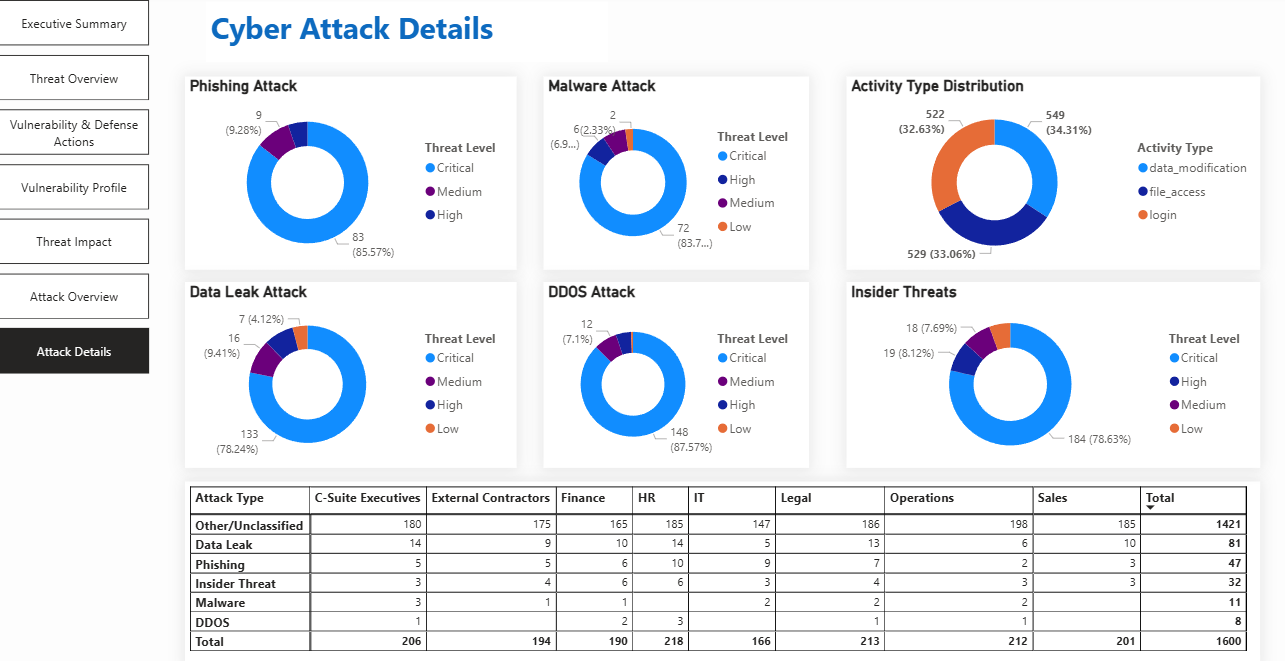

Layout of this report page (visuals, bound fields, positions):
{"tool":"powerbi","page":{"name":"Attack Details","canvas":[1400,720],"ordinal":6},"visuals":[{"type":"pivotTable","fields":{"Rows":["simulated_attacks_df.Attack Type"],"Columns":["simulated_attacks_df.Department Affected"],"Values":["CountNonNull(simulated_attacks_df.Issue ID)"]},"box":[200.8,519.8,1161,200.8],"z":0},{"type":"donutChart","title":"Phishing Attack","fields":{"Y":["CountNonNull(simulated_attacks_df.Issue ID)"],"Category":["simulated_attacks_df.Threat Level"]},"box":[200.8,82.6,357.8,208.9],"z":1000},{"type":"donutChart","title":"Activity Type Distribution","fields":{"Category":["simulated_attacks_df.Activity Type"],"Y":["CountNonNull(simulated_attacks_df.Issue ID)"]},"box":[914.9,82.6,446.9,208.9],"z":2000},{"type":"donutChart","title":"Malware Attack","fields":{"Y":["CountNonNull(simulated_attacks_df.Issue ID)"],"Category":["simulated_attacks_df.Threat Level"]},"box":[587.8,82.6,286.6,208.9],"z":3000},{"type":"donutChart","title":"Data Leak Attack","fields":{"Y":["CountNonNull(simulated_attacks_df.Issue ID)"],"Category":["simulated_attacks_df.Threat Level"]},"box":[200.8,304.4,357.8,200.8],"z":4000},{"type":"donutChart","title":"DDOS Attack","fields":{"Y":["CountNonNull(simulated_attacks_df.Issue ID)"],"Category":["simulated_attacks_df.Threat Level"]},"box":[587.8,304.4,286.6,200.8],"z":5000},{"type":"donutChart","title":"Insider Threats","fields":{"Y":["CountNonNull(simulated_attacks_df.Issue ID)"],"Category":["simulated_attacks_df.Threat Level"]},"box":[914.9,304.4,446.9,200.8],"z":6000},{"type":"textbox","box":[224,1.7,434,65.2],"z":7000},{"type":"pageNavigator","box":[0,0,162.4,405.9],"z":8000}]}

Visuals, with their boxes on the page's 1400x720 design canvas (x1, y1, x2, y2). These are canvas units, not pixel positions in the 1285x661 screenshot, which may show the page scaled, cropped or inside an application window:
pivotTable - simulated_attacks_df.Attack Type x simulated_attacks_df.Department Affected: Rect(201, 520, 1362, 721)
"Phishing Attack" donutChart: Rect(201, 83, 559, 292)
"Activity Type Distribution" donutChart: Rect(915, 83, 1362, 292)
"Malware Attack" donutChart: Rect(588, 83, 874, 292)
"Data Leak Attack" donutChart: Rect(201, 304, 559, 505)
"DDOS Attack" donutChart: Rect(588, 304, 874, 505)
"Insider Threats" donutChart: Rect(915, 304, 1362, 505)
textbox: Rect(224, 2, 658, 67)
pageNavigator: Rect(0, 0, 162, 406)
